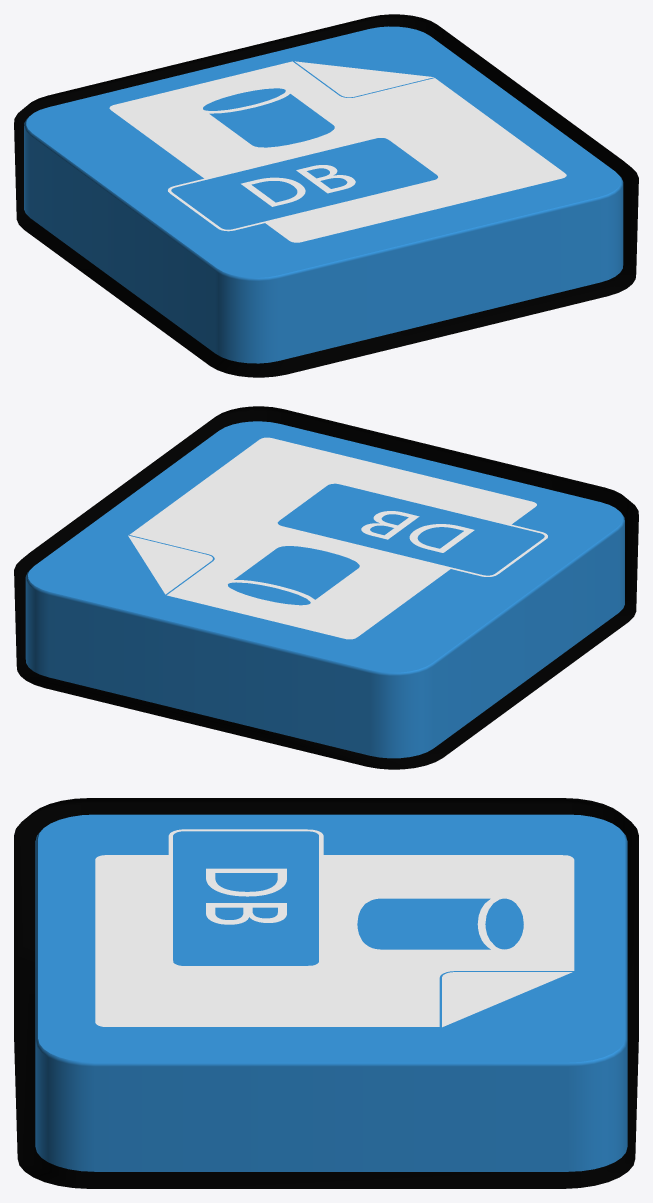
The model's file is DBInst.obj.
3 views of the same model, one above another, from view 1: azimuth 30°, elevation 25°; view 2: azimuth 150°, elevation 25°; view 3: azimuth 270°, elevation 25° (orthographic). The views are drawn at different scales.
Visible parts, largest first — view 1: DBInst; view 2: DBInst; view 3: DBInst.
Part boxes in pixels (x1,y1,x2,y2): DBInst: [14, 14, 638, 377]; DBInst: [14, 406, 638, 769]; DBInst: [14, 798, 638, 1188].
Bounding box in the file's own units: 1.06 × 0.2484 × 1.06.
